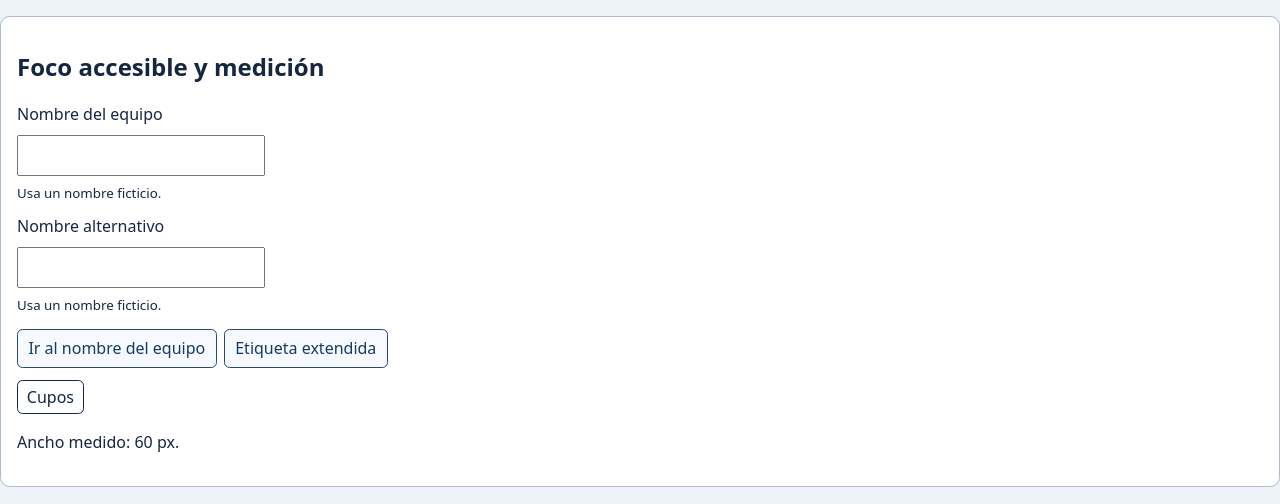
Test: DOM y catálogo › mide de nuevo al cambiar la etiqueta
Check: the text "Ancho medido: 60 px." is shown, box [17,431,179,453]
Click the button "Etiqueta extendida": (306, 348) [224,329,388,368]
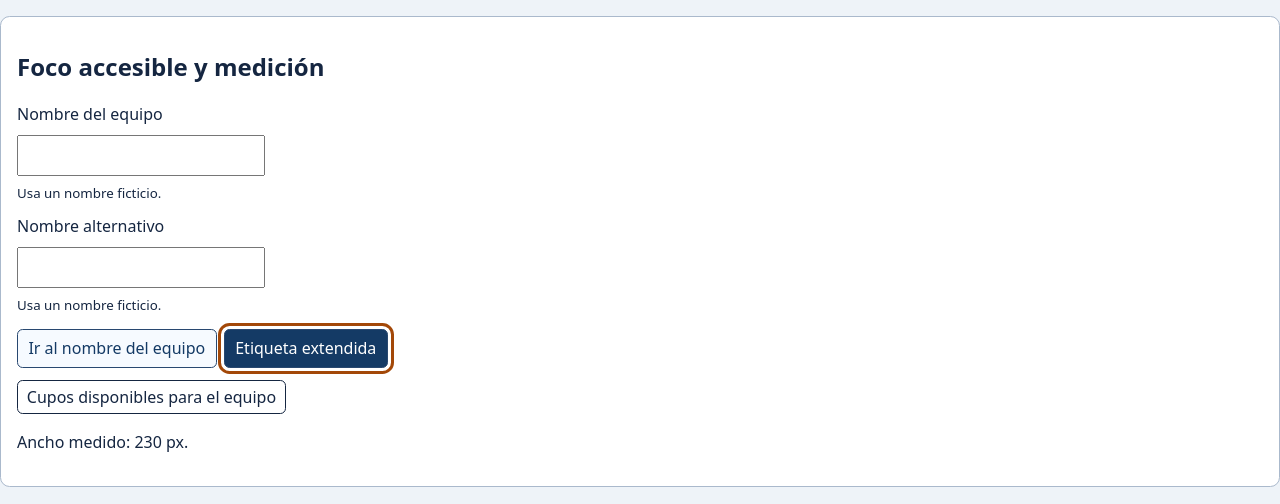
Check: the text "Ancho medido: 230 px." is shown, box [17,431,188,453]
